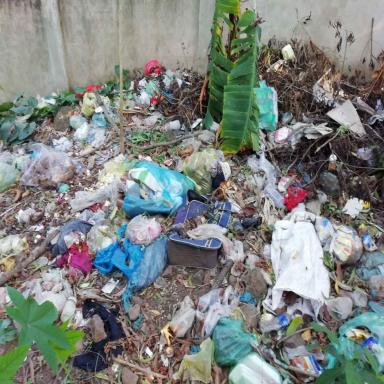plasticbag: (124, 158, 200, 220), (204, 312, 258, 369), (181, 148, 225, 193), (250, 81, 280, 129), (127, 214, 163, 245)
